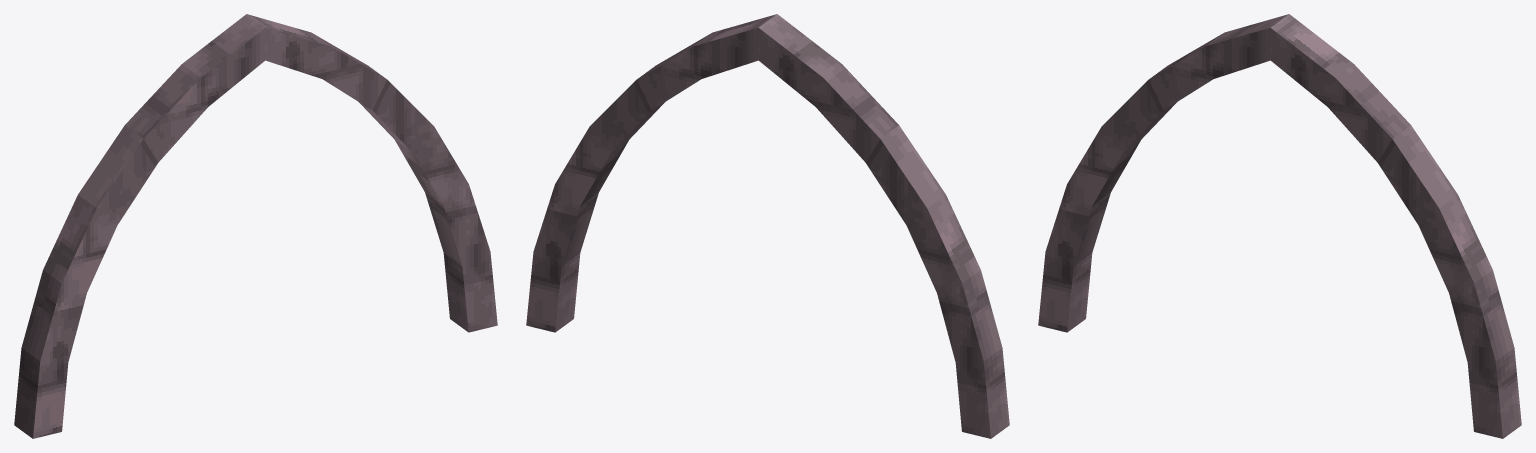
File: fuehrung_normal_a.glb
3 views of the same model, side by side, from view 1: azimuth 30°, elevation 25°; view 2: azimuth 150°, elevation 25°; view 3: azimuth 330°, elevation 25° (orthographic).
Visible parts, largest first — view 1: fuehrung_normal; view 2: fuehrung_normal; view 3: fuehrung_normal.
Boxes of the visible parts, box(x1,y1,x2,y2) form: fuehrung_normal: box(14, 14, 497, 438); fuehrung_normal: box(526, 14, 1009, 438); fuehrung_normal: box(1038, 14, 1521, 438).
Size of the model in its own units: 2 by 1.46 by 0.14.
1 material, 1 textured.
